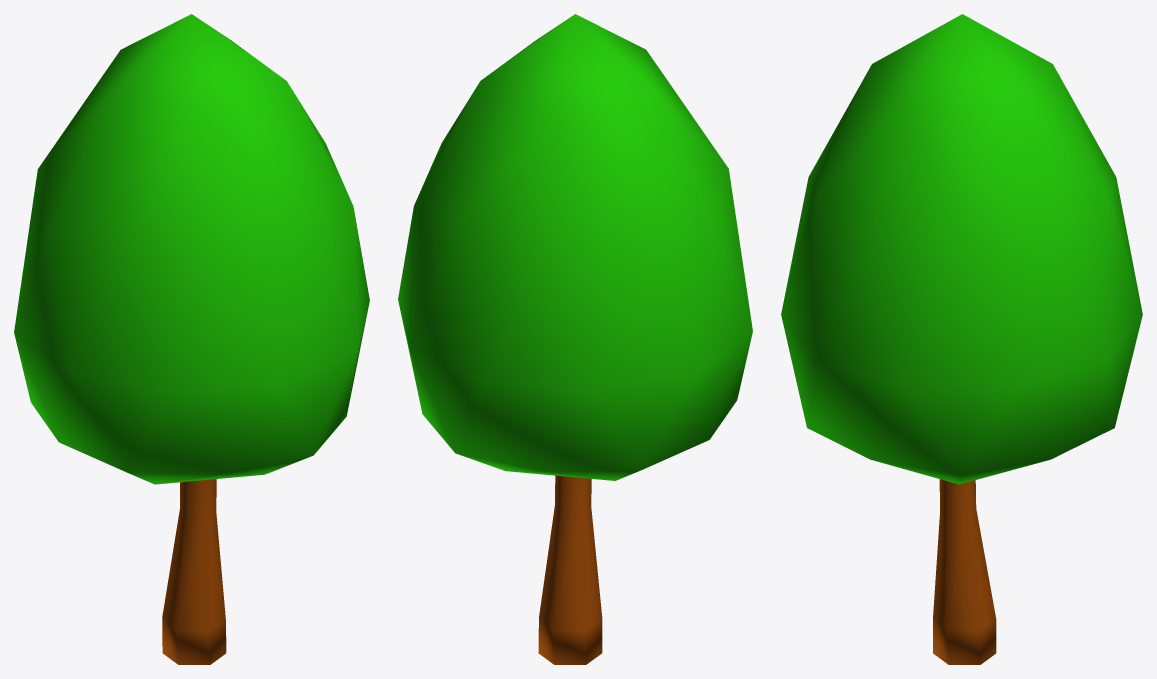
Rendered from tree-two.glb.
3 renders of one model, left to right at view 1: azimuth 30°, elevation 25°; view 2: azimuth 150°, elevation 25°; view 3: azimuth 270°, elevation 25°, orthographic.
Parts seen in each view (by area): view 1: tree-two; view 2: tree-two; view 3: tree-two.
Part boxes in pixels (box(x1,y1,x2,y2)): tree-two: box(14, 14, 369, 664); tree-two: box(398, 14, 752, 664); tree-two: box(781, 14, 1142, 664).
Size of the model in its own units: 2.04 by 4.17 by 2.14.
Materials: 1 (1 with a texture image).
